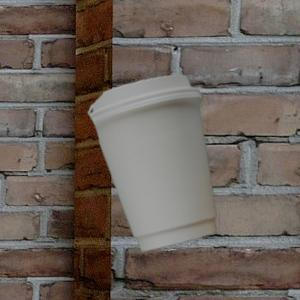cup: (88, 75, 219, 254)
